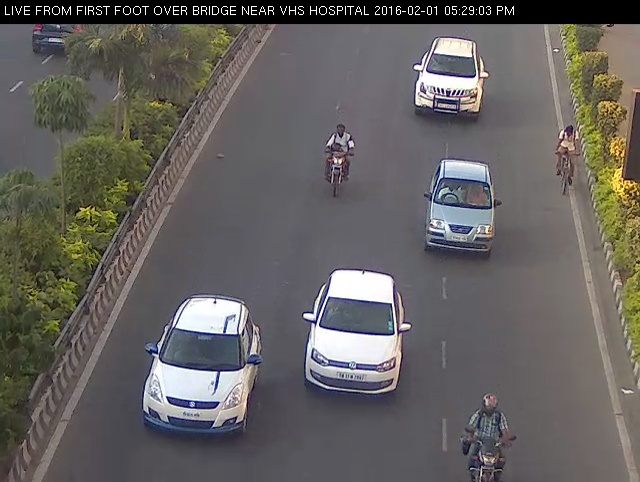Car: (134, 288, 272, 451), (294, 264, 424, 408), (416, 152, 507, 271), (410, 31, 490, 126)
Person: (454, 382, 524, 482), (319, 117, 359, 203)
